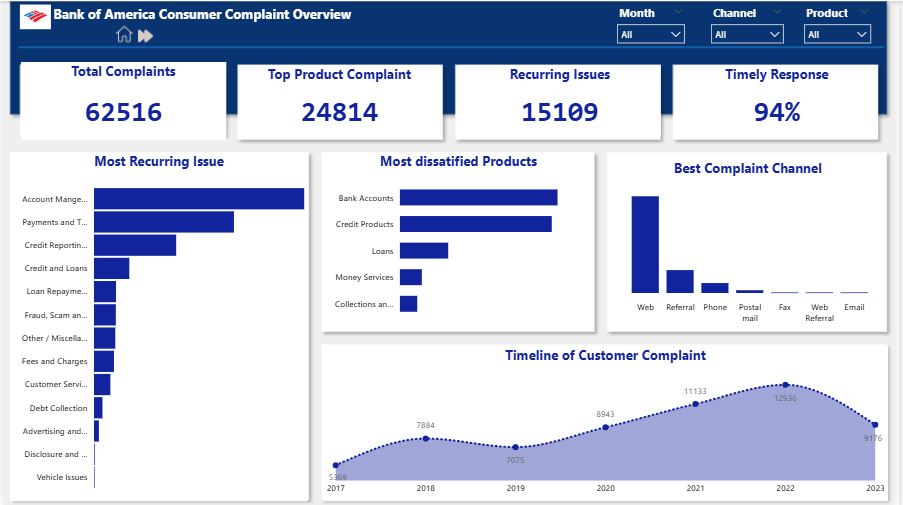

This screenshot's page, from the dashboard's own definition file:
{"tool":"powerbi","page":{"name":"OVERVIEW","canvas":[1280,720],"ordinal":0},"visuals":[{"type":"clusteredBarChart","title":"Most Recurring Issue","fields":{"Y":["CountNonNull(Data.Complaint ID)"],"Category":["Data.Issue Category"]},"box":[21.3,214,422.4,494.6],"z":0},{"type":"clusteredBarChart","title":"Most dissatified Products","fields":{"Y":["CountNonNull(Data.Complaint ID)"],"Category":["Data.Products grouped"]},"box":[464.9,214,384.1,248],"z":1000},{"type":"clusteredColumnChart","title":"Best Complaint Channel","fields":{"Category":["Data.Submitted via"],"Y":["CountNonNull(Data.Complaint ID)"]},"box":[871.7,223.9,391.2,240.9],"z":2000},{"type":"areaChart","title":"Timeline of  Customer Complaint","fields":{"Y":["CountNonNull(Data.Date received)"],"Category":["Data.Year Received"]},"box":[464.9,489,800.8,219.7],"z":3000},{"type":"card","title":"Total Complaints","fields":{"Values":["Data.Total Complaints"]},"box":[36.9,86.5,290.6,110.6],"z":4000},{"type":"card","title":"Top Product Complaint","fields":{"Values":["Data.Top Product Complaints"]},"box":[345.8,90.7,284.9,100.6],"z":5000},{"type":"card","title":"Recurring Issues","fields":{"Values":["Data.Top Issue Complaints"]},"box":[657.6,90.7,286.3,100.6],"z":6000},{"type":"card","title":"Timely Response","fields":{"Values":["Data.% Timely Responses"]},"box":[965.2,90.7,286.3,100.6],"z":7000},{"type":"image","box":[21.3,0,72.3,45.4],"z":8000},{"type":"textbox","box":[78,0,449.3,45.4],"z":9000},{"type":"image","box":[72.3,29.8,221.1,34],"z":10000},{"type":"image","box":[194.2,32.6,38.3,34],"z":11000},{"type":"slicer","fields":{"Values":["Data.Month Name"]},"box":[871.7,0,116.2,63.8],"z":12000},{"type":"slicer","fields":{"Values":["Data.Submitted via"]},"box":[1004.9,0,123.3,63.8],"z":13000},{"type":"slicer","fields":{"Values":["Data.Products grouped"]},"box":[1136.7,0,114.8,63.8],"z":14000}]}

Visuals, with their boxes in screenshot pixels (x1, y1, x2, y2), scaled from the page's 1280x720 canvas onto the 903x505 screenshot:
"Most Recurring Issue" clusteredBarChart: [15, 150, 313, 497]
"Most dissatified Products" clusteredBarChart: [328, 150, 599, 324]
"Best Complaint Channel" clusteredColumnChart: [615, 157, 891, 326]
"Timeline of  Customer Complaint" areaChart: [328, 343, 893, 497]
"Total Complaints" card: [26, 61, 231, 138]
"Top Product Complaint" card: [244, 64, 445, 134]
"Recurring Issues" card: [464, 64, 666, 134]
"Timely Response" card: [681, 64, 883, 134]
image: [15, 0, 66, 32]
textbox: [55, 0, 372, 32]
image: [51, 21, 207, 45]
image: [137, 23, 164, 47]
slicer - Data.Month Name: [615, 0, 697, 45]
slicer - Data.Submitted via: [709, 0, 796, 45]
slicer - Data.Products grouped: [802, 0, 883, 45]
